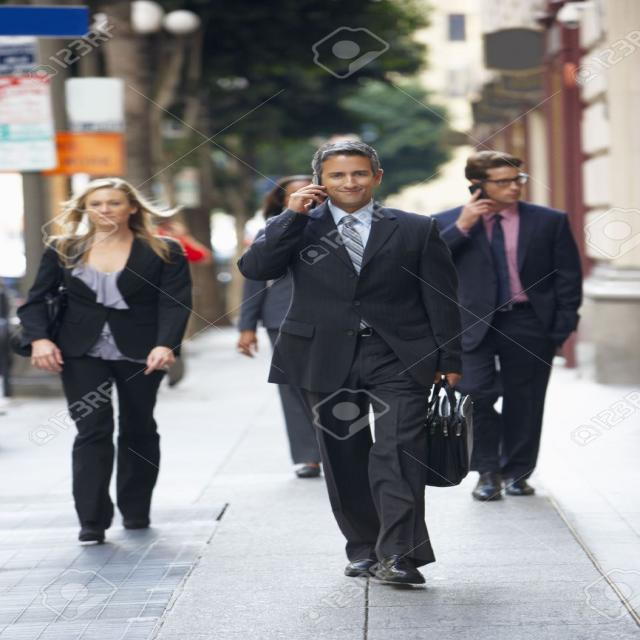body: (233, 138, 476, 590), (11, 174, 200, 549), (429, 150, 585, 502), (233, 173, 326, 481), (149, 207, 213, 389)
